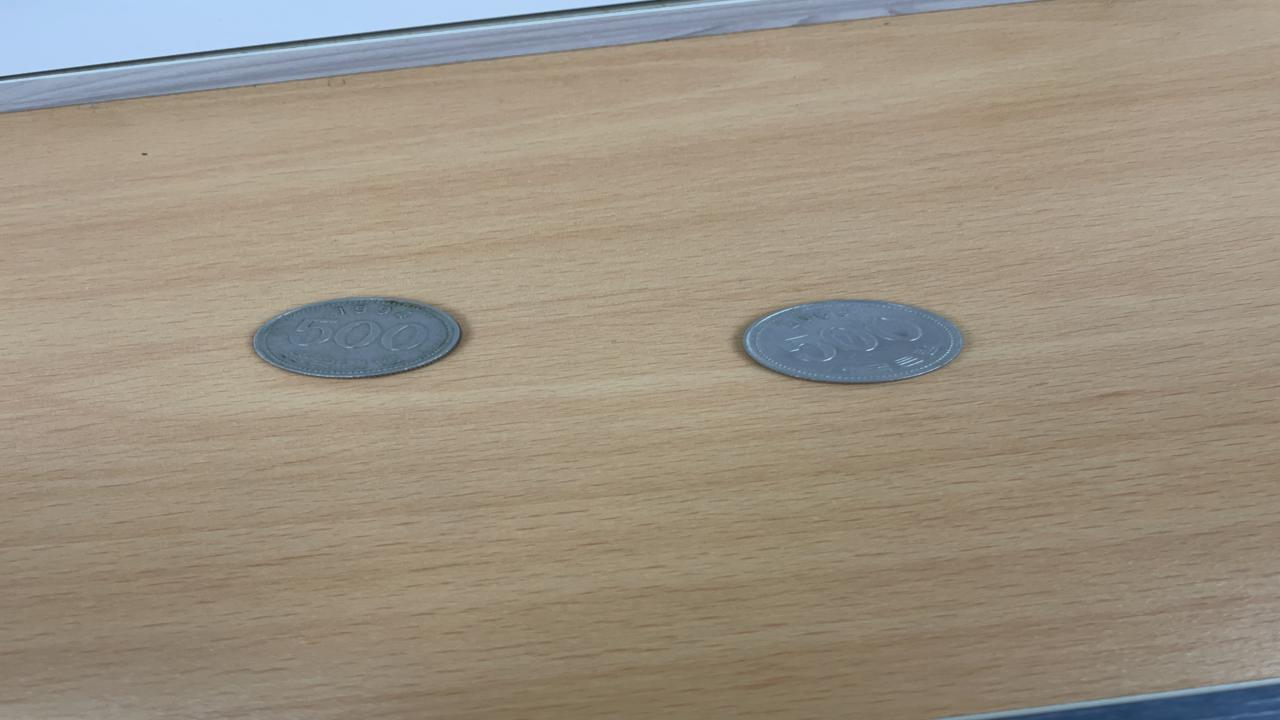coin: (736, 296, 971, 386), (245, 294, 466, 380)
